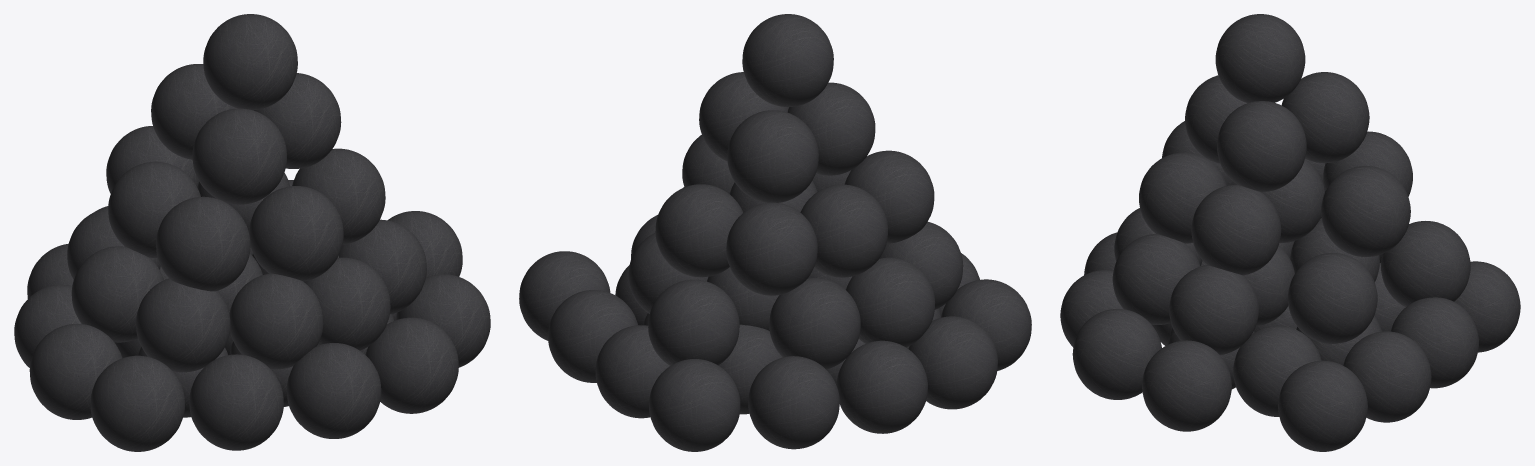
File: CannonballPile.fbx
The picture shows the model from 3 angles, left to right: view 1: azimuth 30°, elevation 25°; view 2: azimuth 150°, elevation 25°; view 3: azimuth 270°, elevation 25°; orthographic projection. The views are drawn at different scales.
Parts seen in each view (by area): view 1: CannonballPile.Shape; view 2: CannonballPile.Shape; view 3: CannonballPile.Shape.
Boxes of the visible parts, left/top/right/bottom form: CannonballPile.Shape: left=14, top=14, right=490, bottom=451; CannonballPile.Shape: left=519, top=14, right=1031, bottom=451; CannonballPile.Shape: left=1060, top=14, right=1520, bottom=451.
Size of the model in its own units: 46.86 by 35.42 by 43.64.
